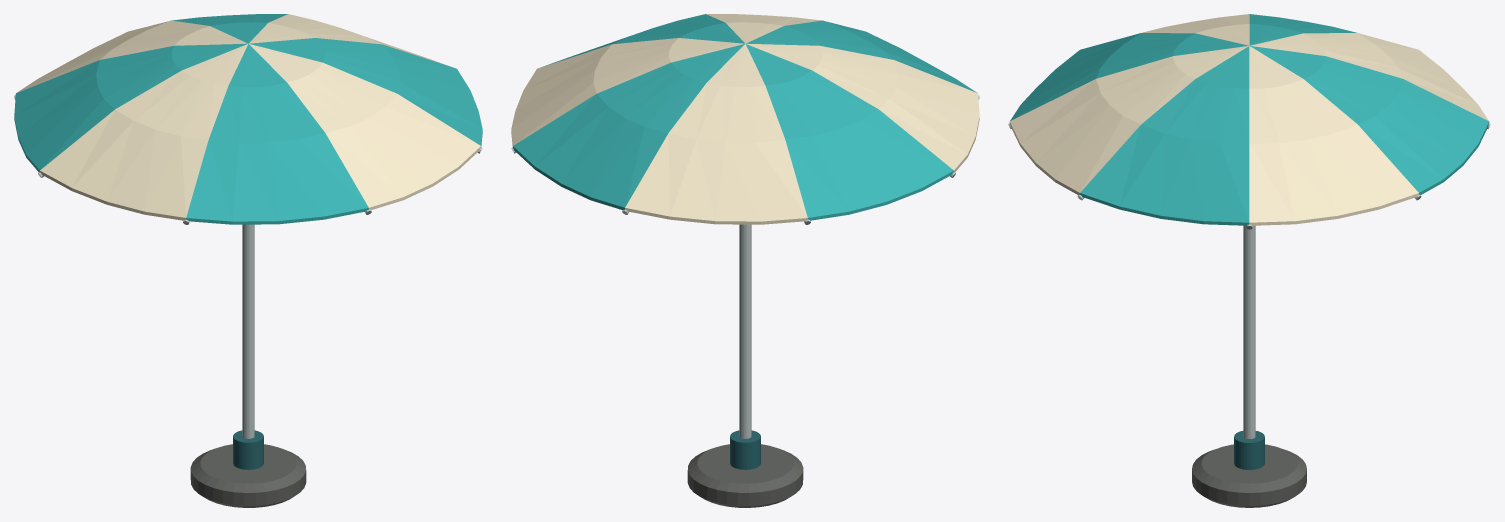
3 views of the same model, side by side, from view 1: azimuth 30°, elevation 25°; view 2: azimuth 150°, elevation 25°; view 3: azimuth 270°, elevation 25° (orthographic).
Parts seen in each view (by area): view 1: Canopy_OneClosedThickEightPanelShell, Base_FiniteBevelledBallast, Pole_OneContinuousCentralMast, Socket_BoredLowerSupport; view 2: Canopy_OneClosedThickEightPanelShell, Base_FiniteBevelledBallast, Pole_OneContinuousCentralMast, Socket_BoredLowerSupport; view 3: Canopy_OneClosedThickEightPanelShell, Base_FiniteBevelledBallast, Pole_OneContinuousCentralMast, Socket_BoredLowerSupport.
Part boxes in pixels (x1,y1,x2,y2): Canopy_OneClosedThickEightPanelShell: (14, 14, 482, 224); Base_FiniteBevelledBallast: (190, 444, 306, 507); Pole_OneContinuousCentralMast: (242, 224, 254, 438); Socket_BoredLowerSupport: (233, 430, 263, 469); Canopy_OneClosedThickEightPanelShell: (511, 14, 979, 224); Base_FiniteBevelledBallast: (687, 444, 803, 507); Pole_OneContinuousCentralMast: (739, 224, 751, 438); Socket_BoredLowerSupport: (730, 430, 760, 469); Canopy_OneClosedThickEightPanelShell: (1009, 14, 1489, 225); Base_FiniteBevelledBallast: (1192, 444, 1306, 507); Pole_OneContinuousCentralMast: (1243, 225, 1255, 438); Socket_BoredLowerSupport: (1234, 431, 1264, 469).
Size of the model in its own units: 2.52 by 2.53 by 2.52.
